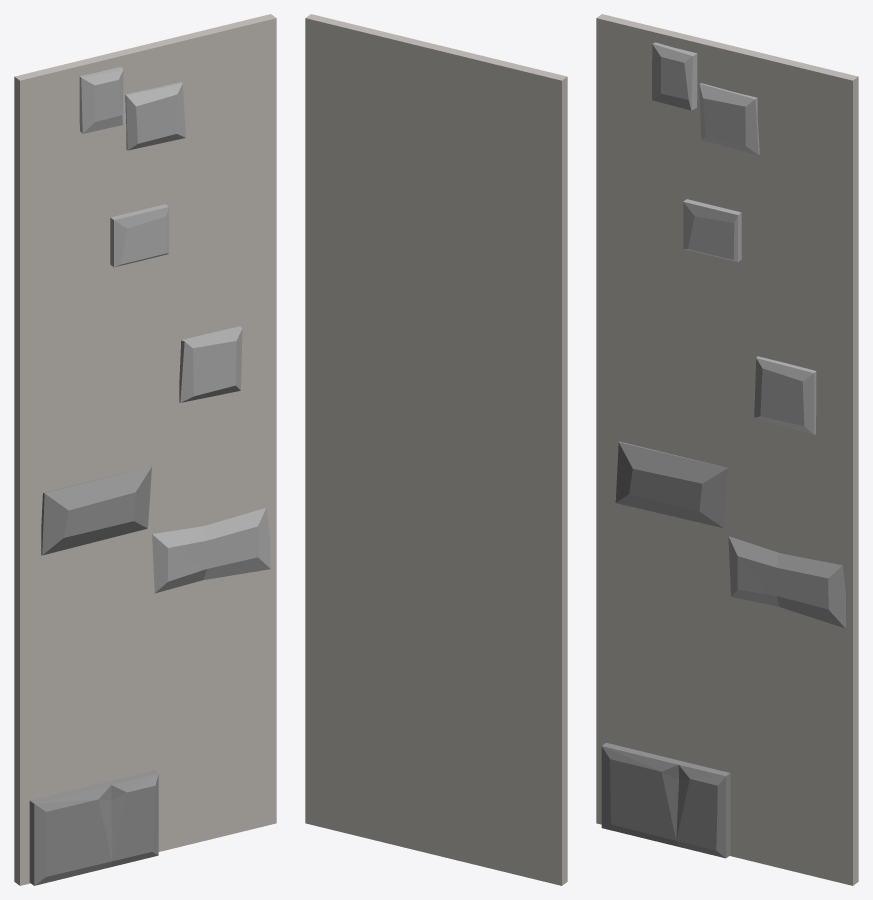
Rendered from _WALL_06_1.fbx.
3 renders of one model, left to right at view 1: azimuth 30°, elevation 25°; view 2: azimuth 150°, elevation 25°; view 3: azimuth 330°, elevation 25°, orthographic.
Visible parts, largest first — view 1: WALL_06_1; view 2: WALL_06_1; view 3: WALL_06_1.
Boxes of the visible parts, x1,y1,x2,y2 form: WALL_06_1: (14, 14, 276, 885); WALL_06_1: (305, 14, 567, 885); WALL_06_1: (596, 14, 858, 885).
Bounding box in the file's own units: 100 × 300 × 8.52.
